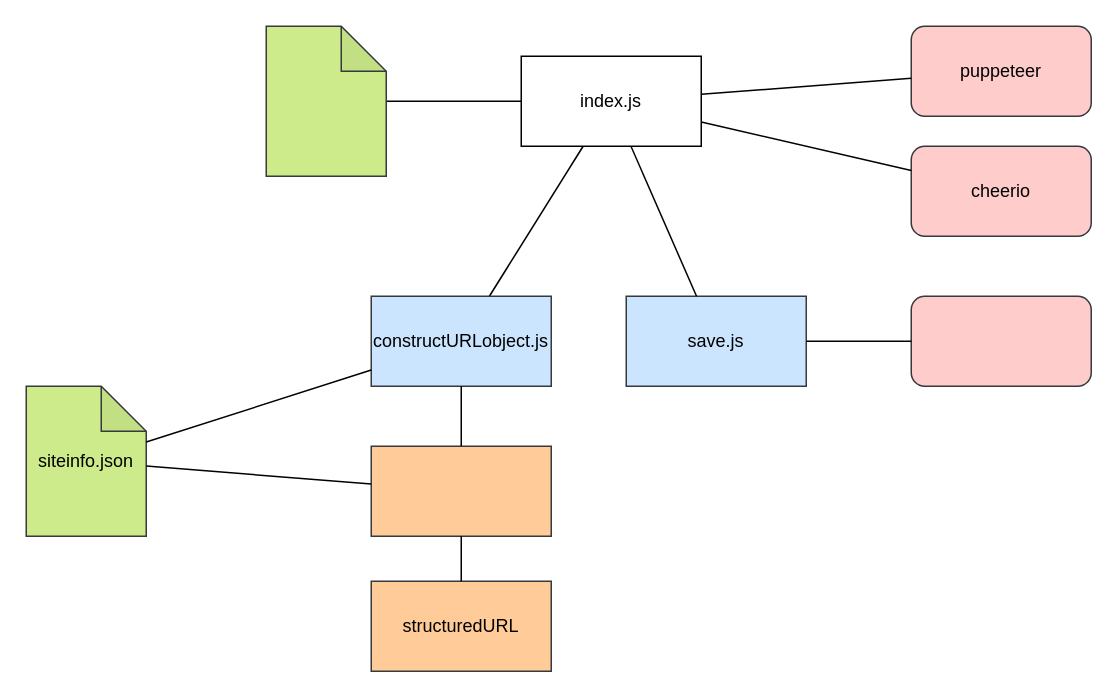
Image size: 1118x698. Some labels were removed from this diagram. The shapes that lost their labels are listed below. From the top down, each one's centre as x and y in pixels, then its label:
At pixel 325 100: "userprefs.json".
At pixel 1000 340: "fs".
At pixel 460 490: "structuredGetURL".
